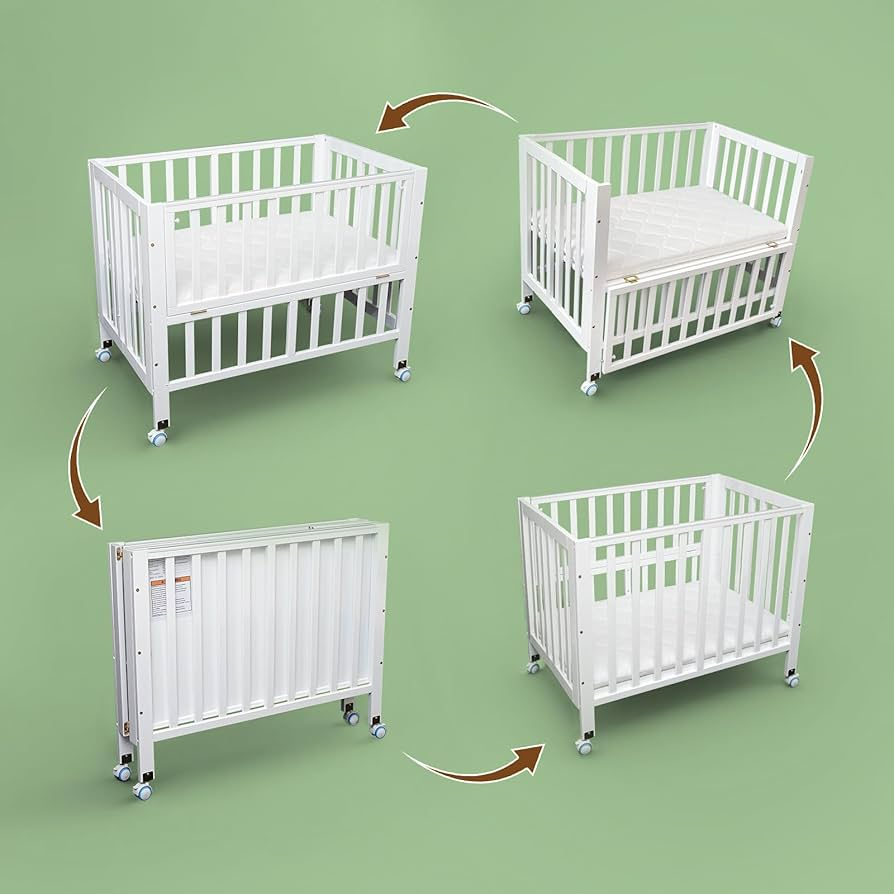crib: (89, 135, 425, 445), (519, 474, 812, 753), (518, 122, 812, 394)
